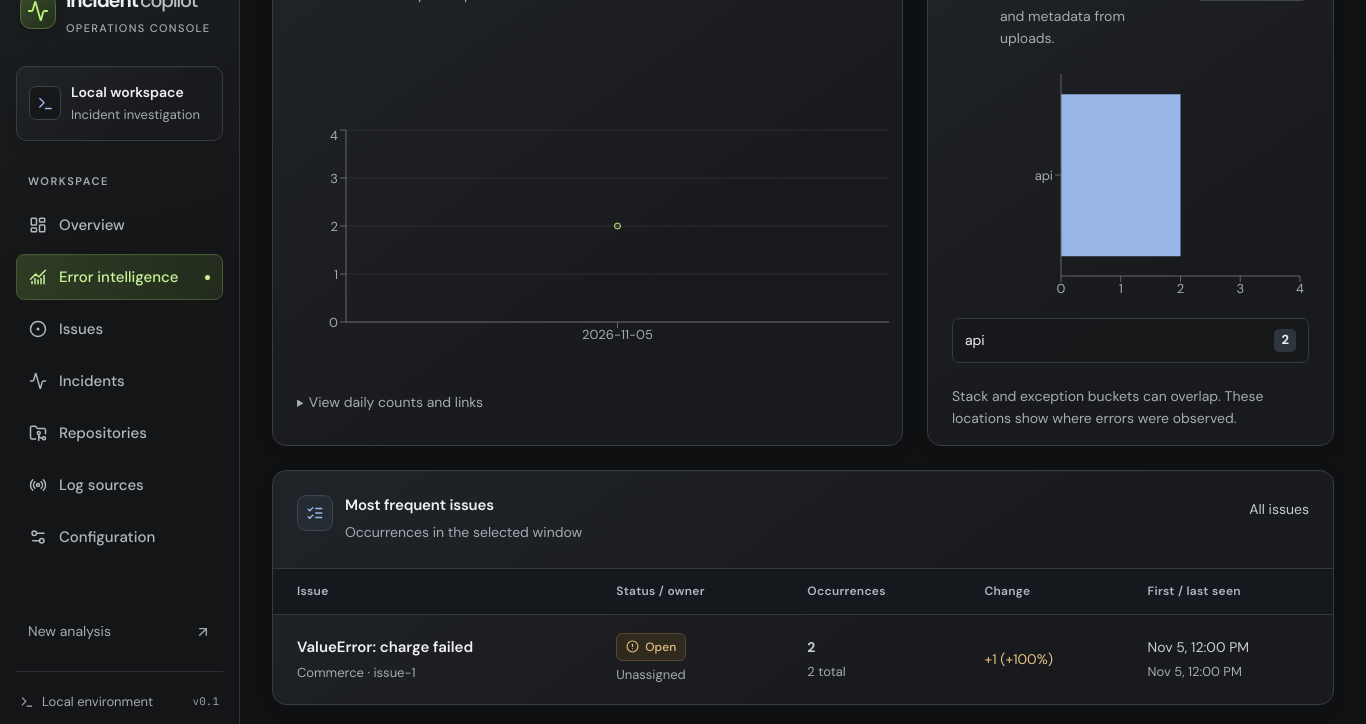
Test: uploaded error intelligence › shows coverage and drills from a hotspot into a filtered issue list
(page scrolled)
Check: the heading "Most frequent issues" is shown, box 345,495 -> 494,515
Click the button "api 2": [975, 340] box 952,318 -> 1309,363
(page scrolled)
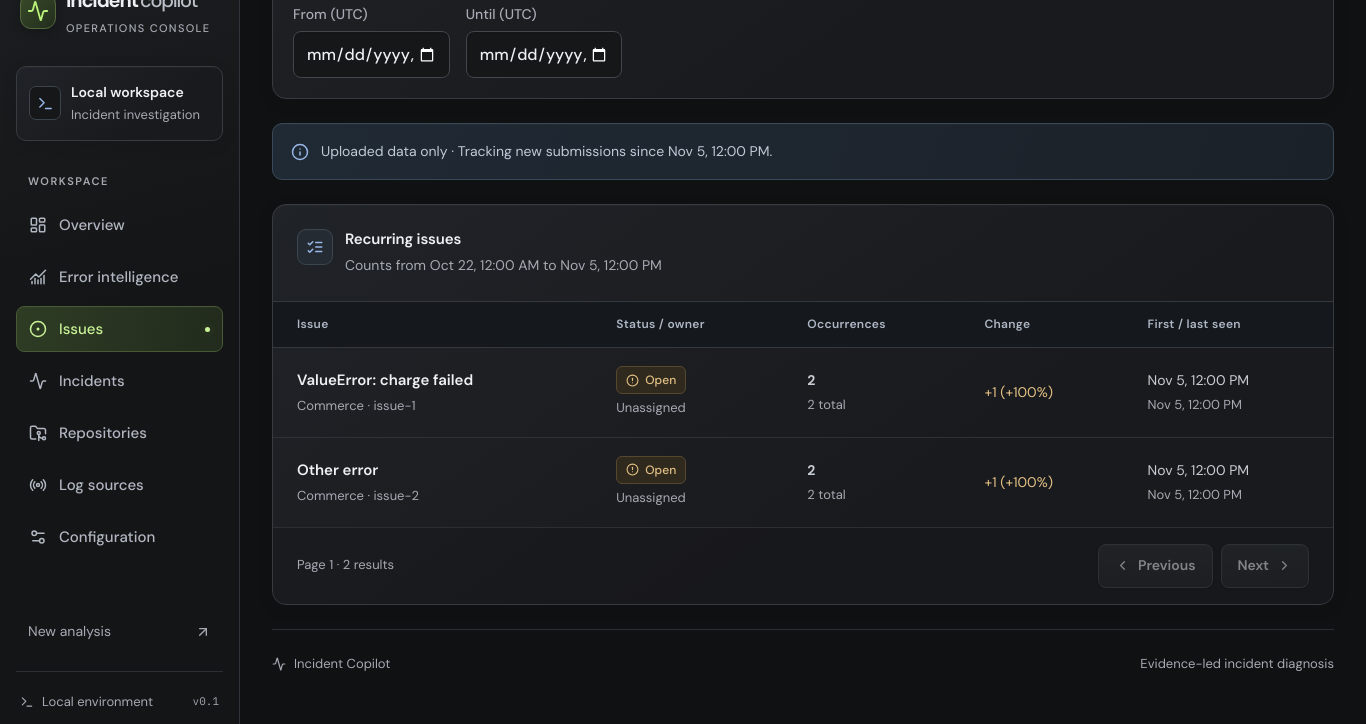
Check: the text named "Current location" reads "/issues?service_name=api", box 0,700 -> 197,721
Check: the heading "Recurring issues" is shown, box 345,229 -> 461,249
